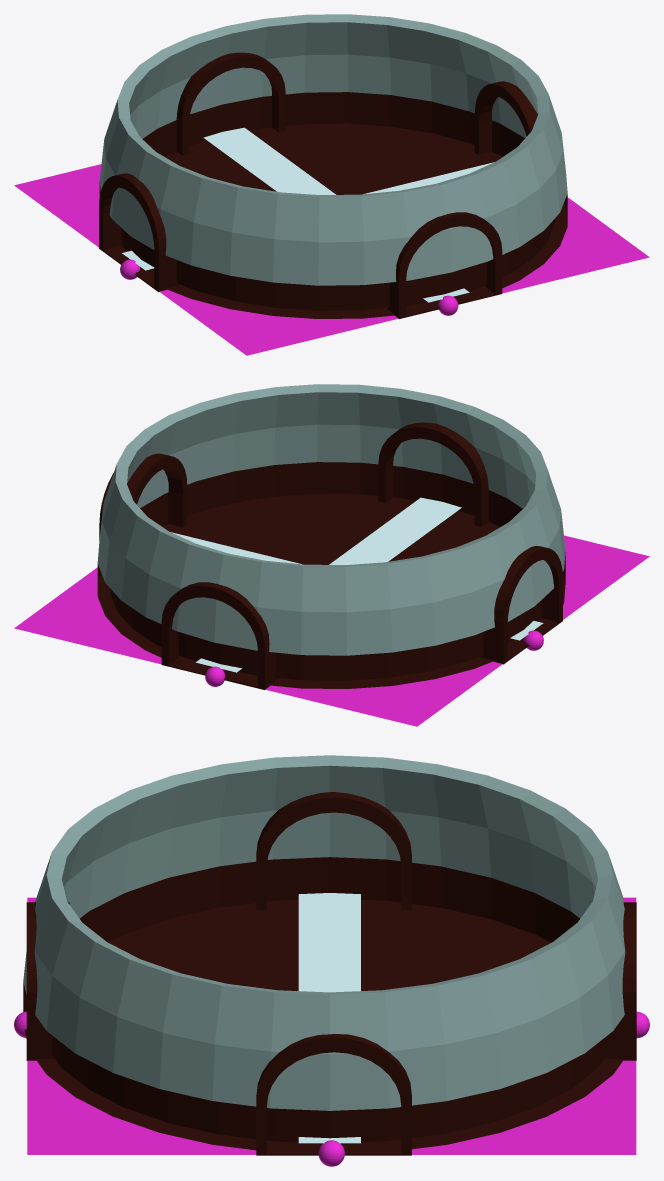
Rendered from dome_3x3.gltf.
3 views of the same model, one above another, from view 1: azimuth 30°, elevation 25°; view 2: azimuth 150°, elevation 25°; view 3: azimuth 270°, elevation 25° (orthographic). The views are drawn at different scales.
Visible parts, largest first — view 1: Sphere, %P%Footprint, Plane.001, Cylinder.003, Cylinder, Cylinder.001, Cylinder.002; view 2: Sphere, %P%Footprint, Plane.001, Cylinder.001, Cylinder.003, Cylinder, Cylinder.002; view 3: Sphere, %P%Footprint, Plane.001, Cylinder.002, Cylinder.003, Cylinder.001, Cylinder.
Boxes of the visible parts, x1,y1,x2,y2 form: Sphere: (99, 14, 567, 318); %P%Footprint: (14, 164, 649, 355); Plane.001: (122, 127, 493, 302); Cylinder.003: (99, 173, 180, 292); Cylinder: (386, 212, 502, 318); Cylinder.001: (176, 52, 285, 155); Cylinder.002: (474, 81, 537, 154); Sphere: (97, 384, 565, 688); %P%Footprint: (14, 535, 649, 726); Plane.001: (171, 497, 543, 672); Cylinder.001: (161, 582, 278, 689); Cylinder.003: (479, 546, 562, 664); Cylinder: (378, 422, 488, 526); Cylinder.002: (99, 453, 187, 540); Sphere: (23, 755, 625, 1154); %P%Footprint: (27, 897, 636, 1154); Plane.001: (298, 893, 360, 1143); Cylinder.002: (256, 1034, 411, 1155); Cylinder.003: (256, 792, 411, 909); Cylinder.001: (605, 902, 636, 1060); Cylinder: (26, 902, 69, 1060).
Size of the model in its own units: 6.26 by 1.83 by 6.27.
